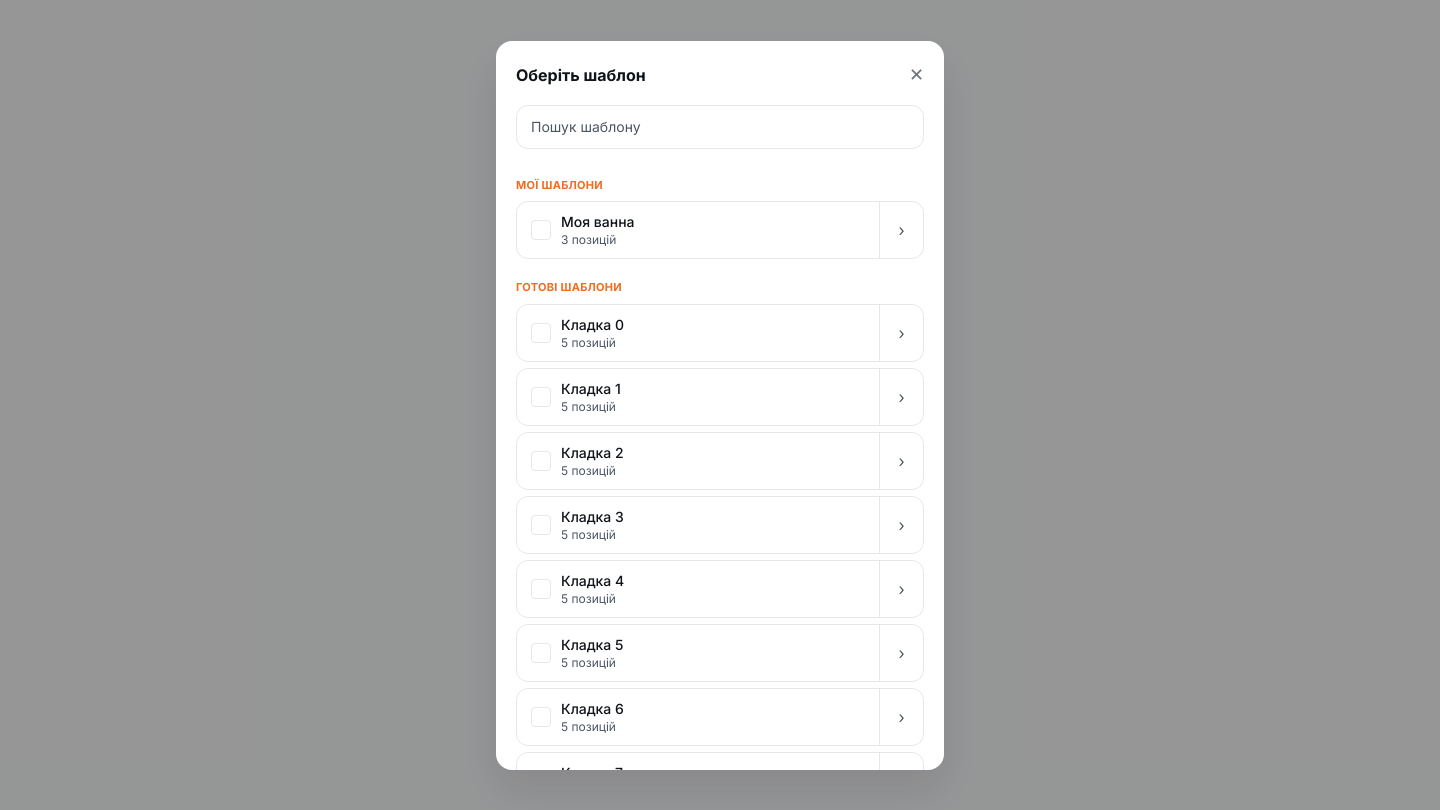
Test: TemplatePickerSheet › says "nothing found" rather than "you have no templates" while searching
Check: the text "Кладка 0" is shown, box top-left (561, 316), bottom-right (624, 332)
In the search field: (720, 126) top-left (516, 104), bottom-right (924, 148), type "абракадабра"
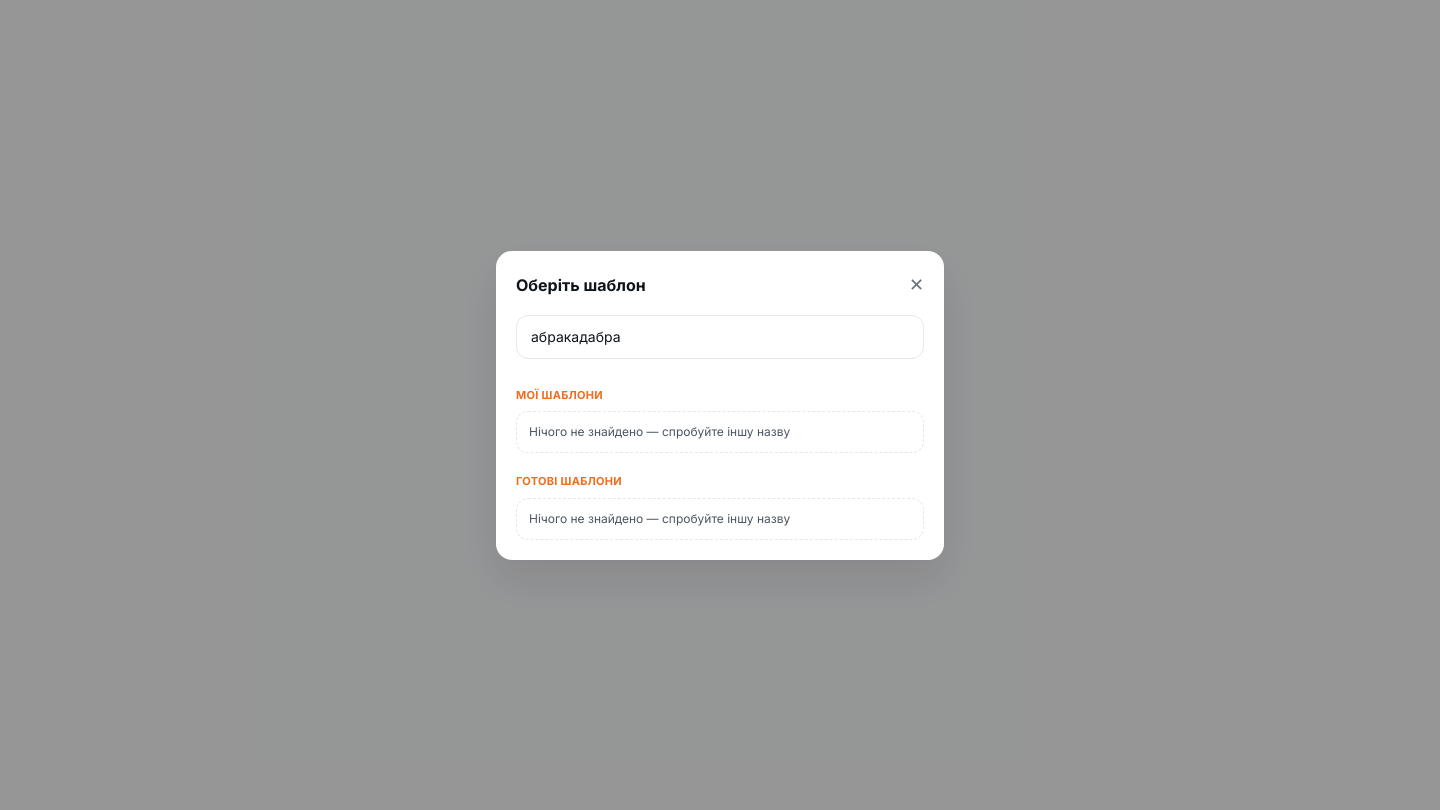
Check: the text "Нічого не знайдено — спробуйте іншу назву" is shown 2 times, box top-left (516, 411), bottom-right (924, 453); top-left (516, 498), bottom-right (924, 540)
